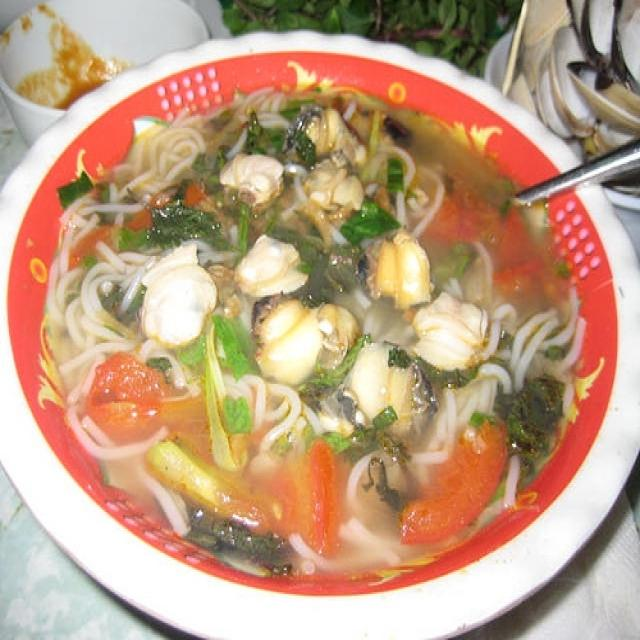面条主食: (11, 26, 624, 626)
